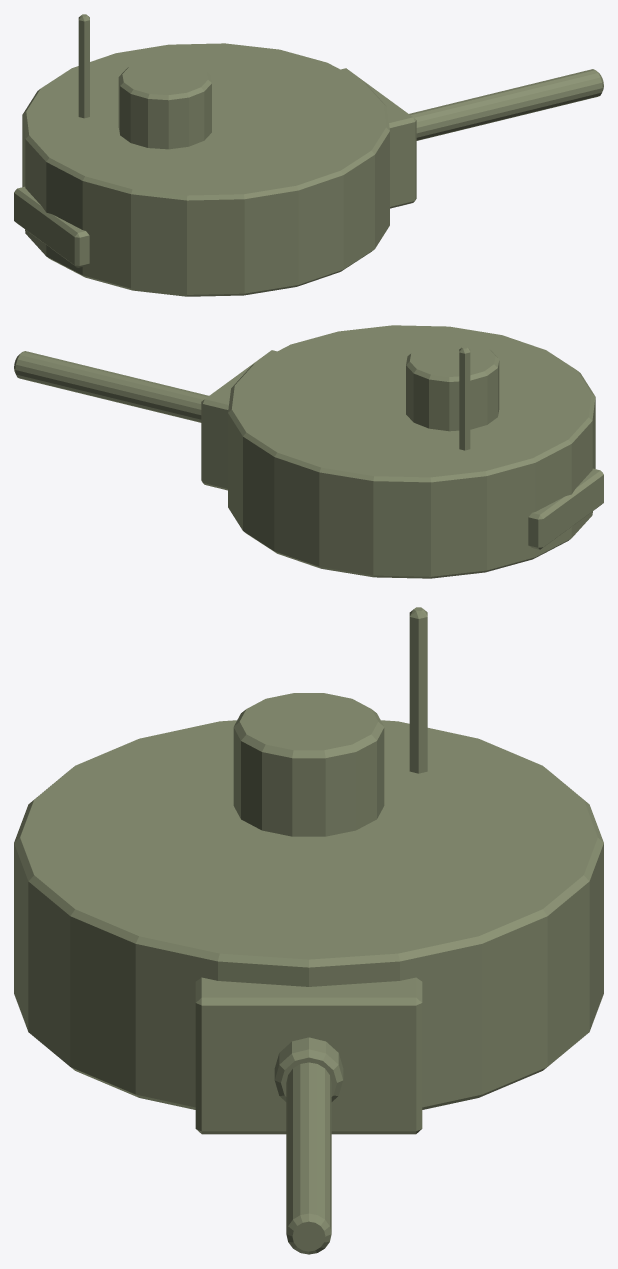
File: sherman_turret.glb
The picture shows the model from 3 angles, top to bottom: view 1: azimuth 30°, elevation 25°; view 2: azimuth 150°, elevation 25°; view 3: azimuth 270°, elevation 25°; orthographic projection. The views are drawn at different scales.
Parts seen in each view (by area): view 1: sherman_turret; view 2: sherman_turret; view 3: sherman_turret.
Boxes of the visible parts, bbox=[...] form: sherman_turret: bbox=[14, 14, 603, 296]; sherman_turret: bbox=[14, 325, 603, 578]; sherman_turret: bbox=[14, 607, 603, 1254].
Bounding box in the file's own units: 2.98 × 1.07 × 1.72.
